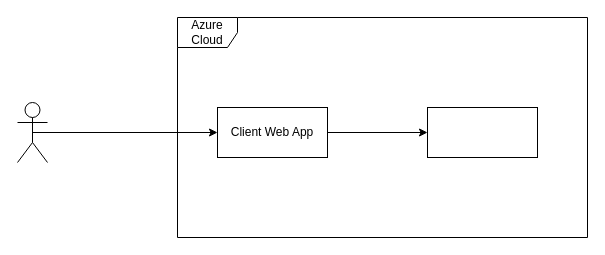
This 605x255 diagram has some shape labels left out. Each missing label, with the centre of its shape:
Server Web App: (482,132)
User: (32,132)
